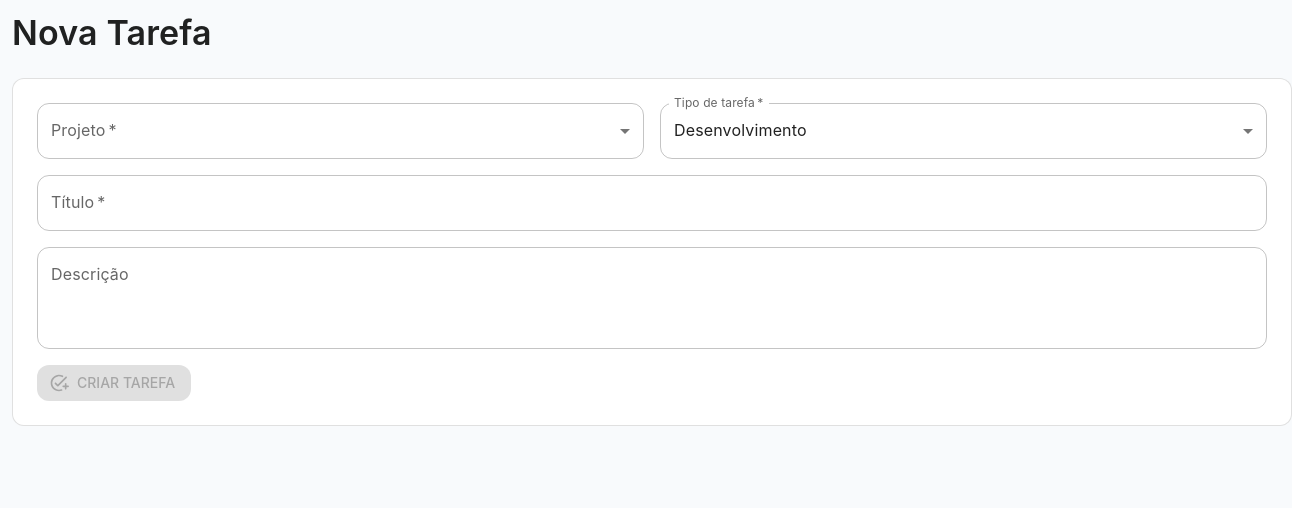
Test case: NovaTarefaScreen › exibe erro genérico para outros códigos HTTP
The width and height of the screenshot is (1292, 508).
Click the 1st dropdown: (340, 131) [37,103,644,159]
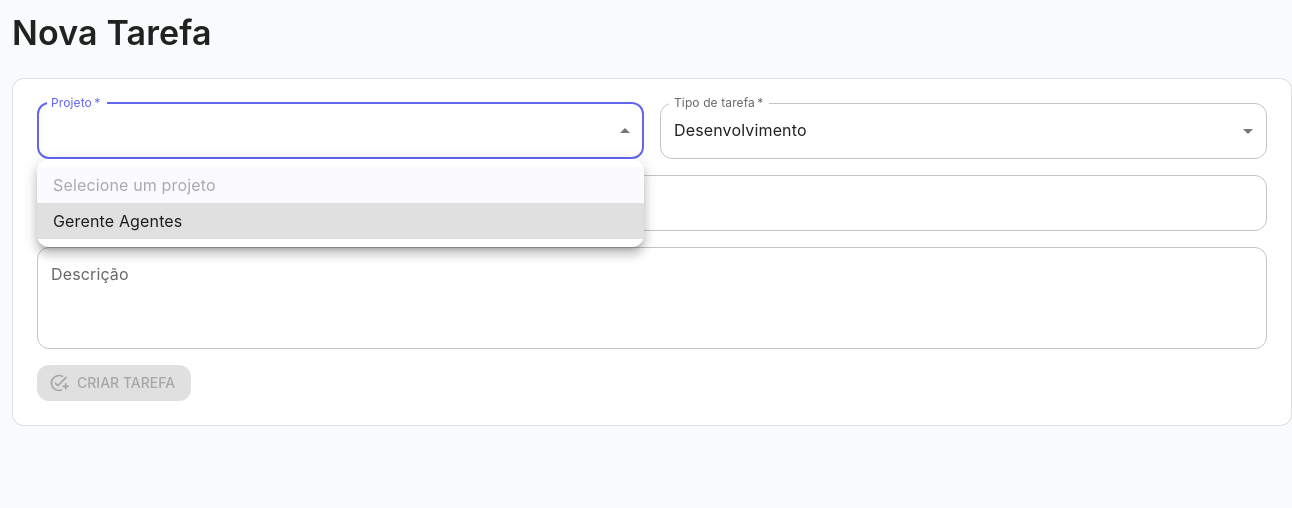
Click the option "Gerente Agentes": (118, 221) [37,203,644,239]
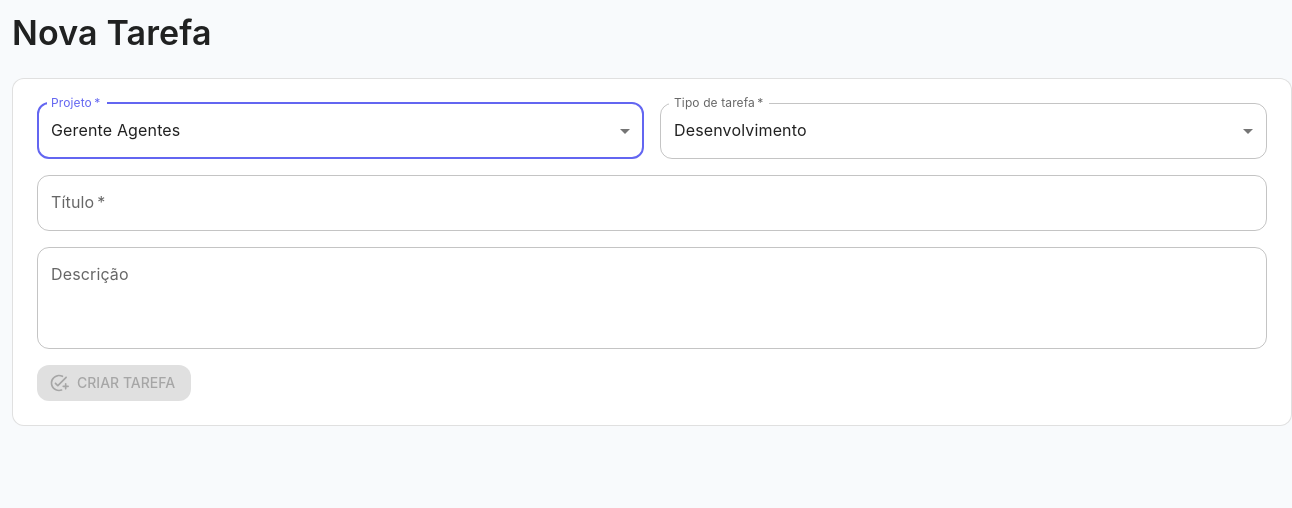
In the field with test id "input-titulo": (652, 203) [37,175,1267,231], type "Tarefa de erro"
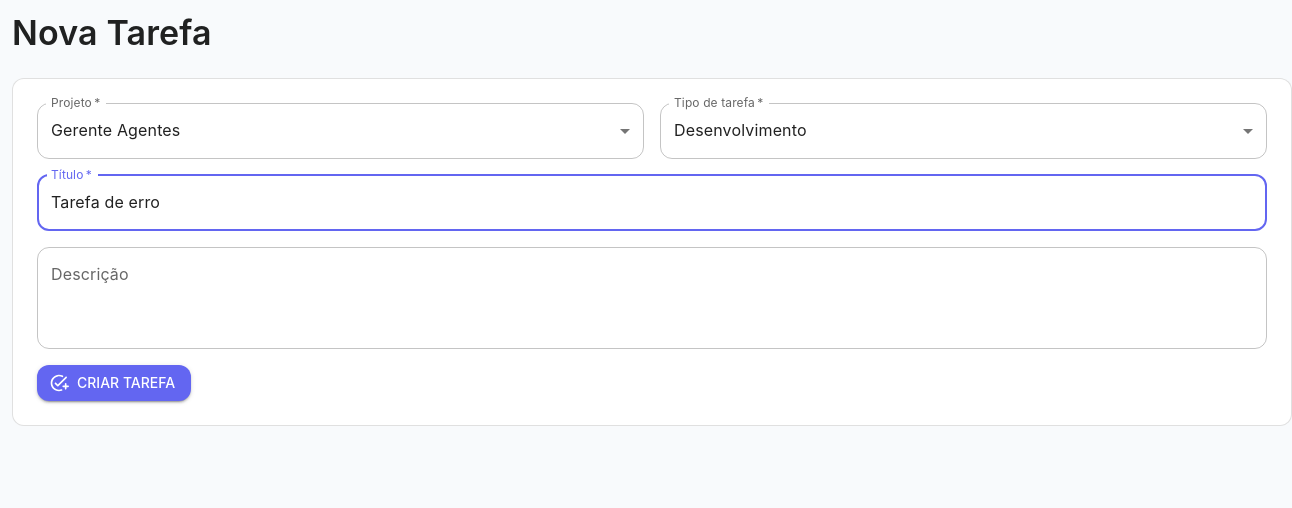
Click the button with test id "btn-enviar": (114, 383) [37,365,191,402]
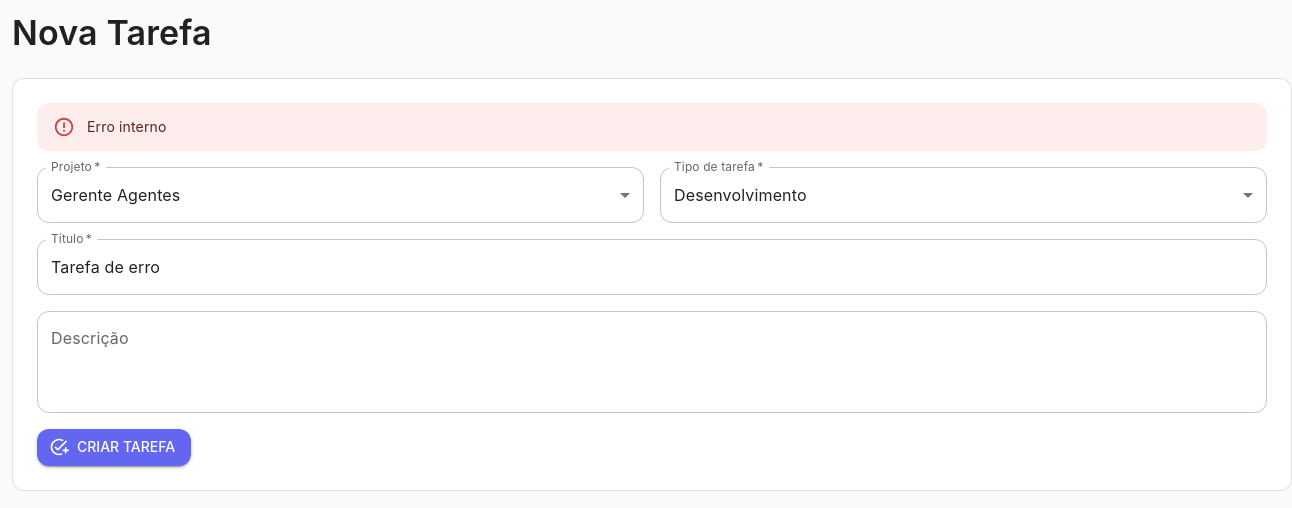
Check: the message "Erro interno" is shown, box [37,103,1267,151]
Check: the message with test id "api-error" reads "Erro interno", box [87,118,166,135]
